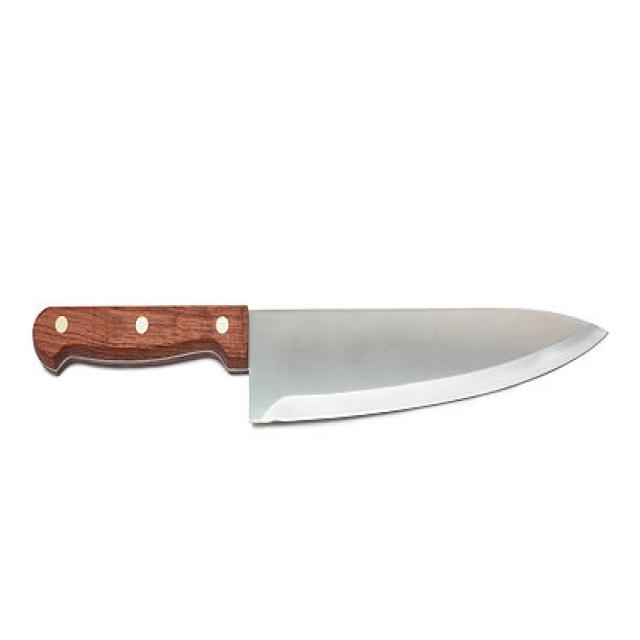knife: (31, 290, 619, 446)
